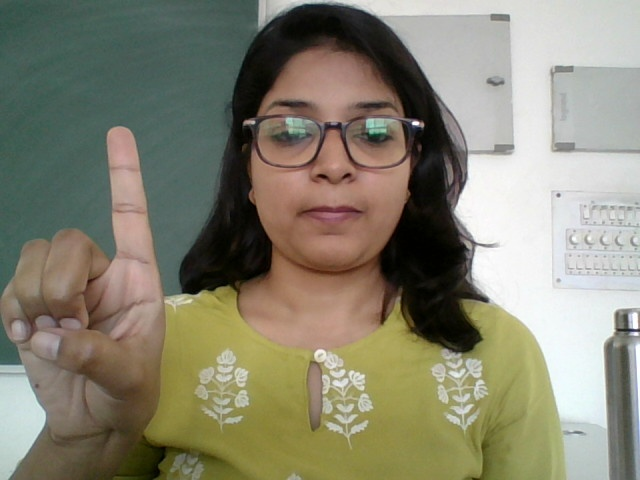D: (3, 116, 193, 439)
